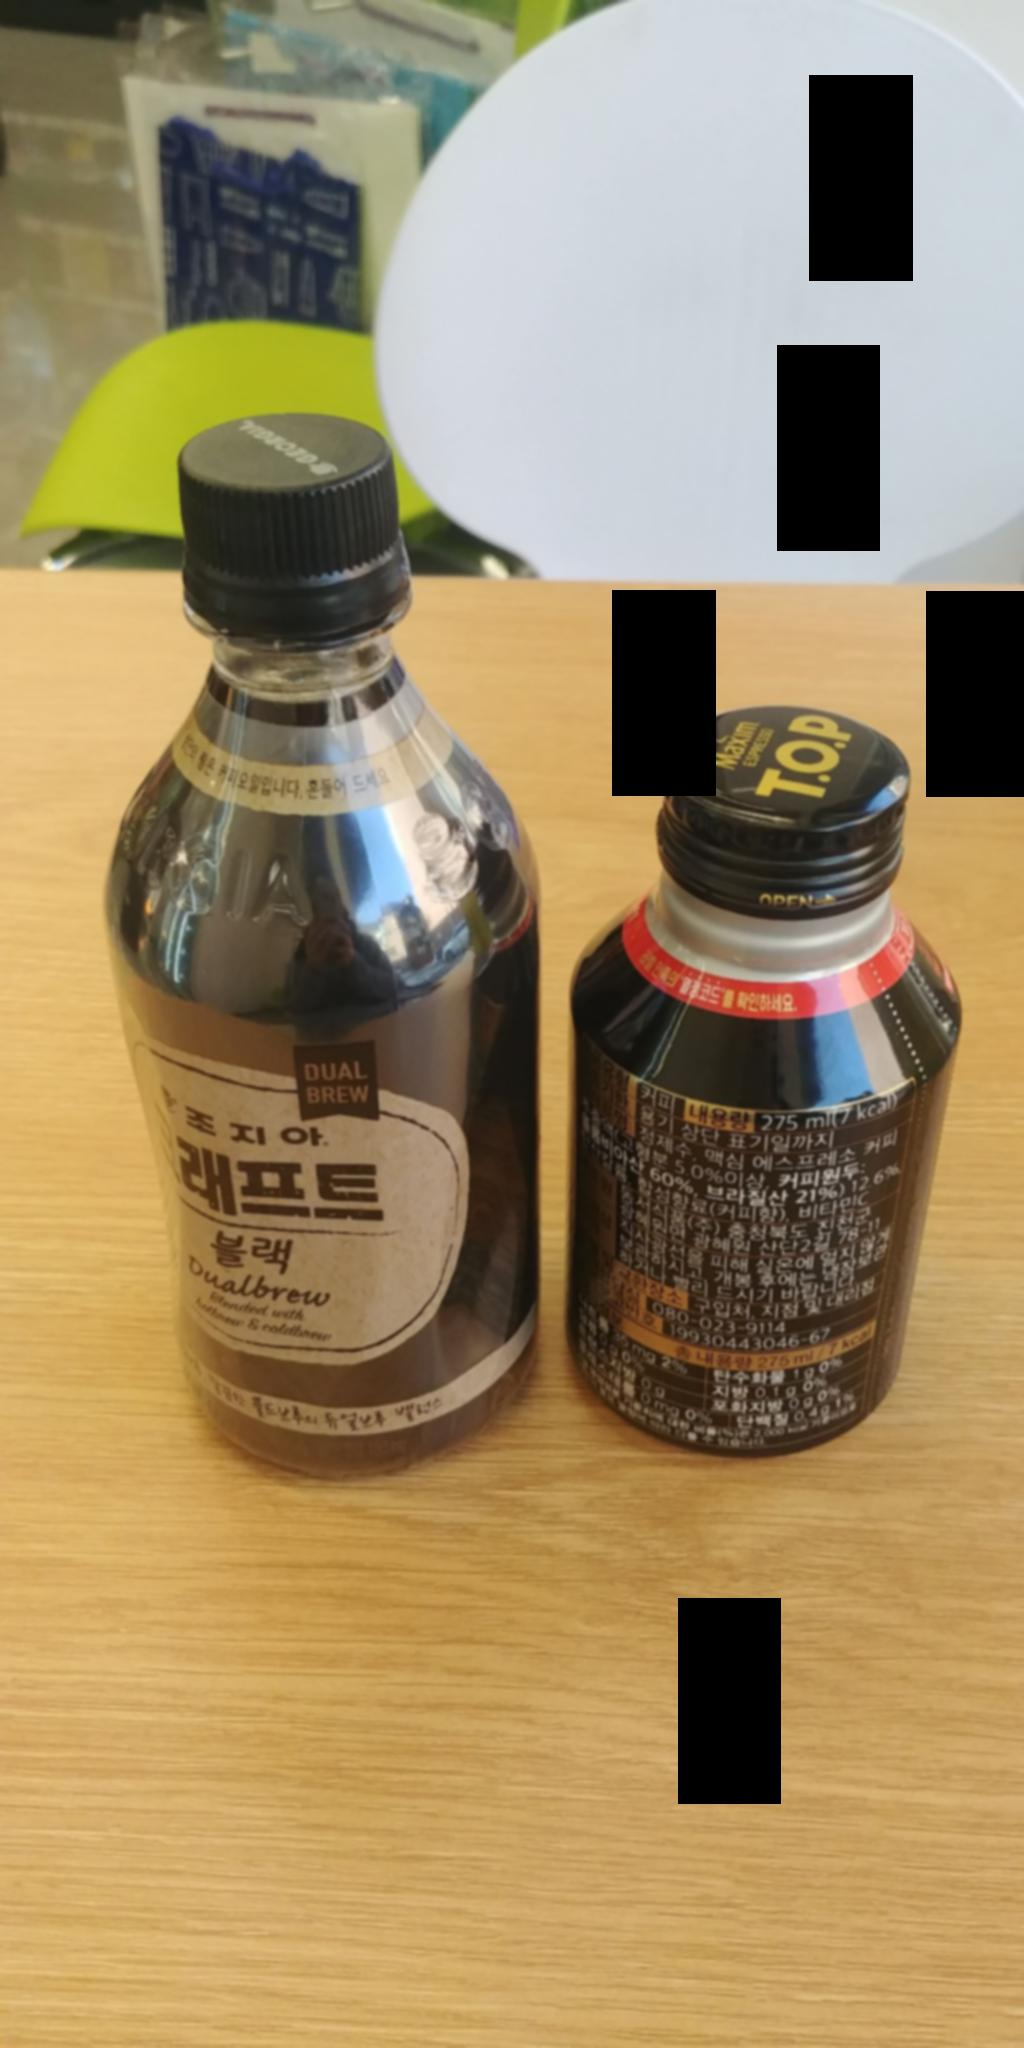TOP_black: (538, 670, 948, 1475)
georgiacraft_black: (85, 388, 541, 1476)
